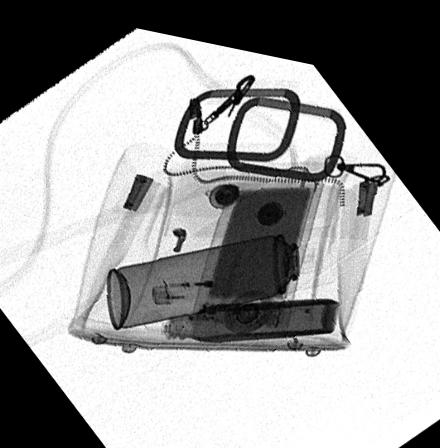Lighter: (150, 266, 233, 297)
Powerbank: (185, 166, 324, 325)
Sprayer: (105, 208, 334, 326)
